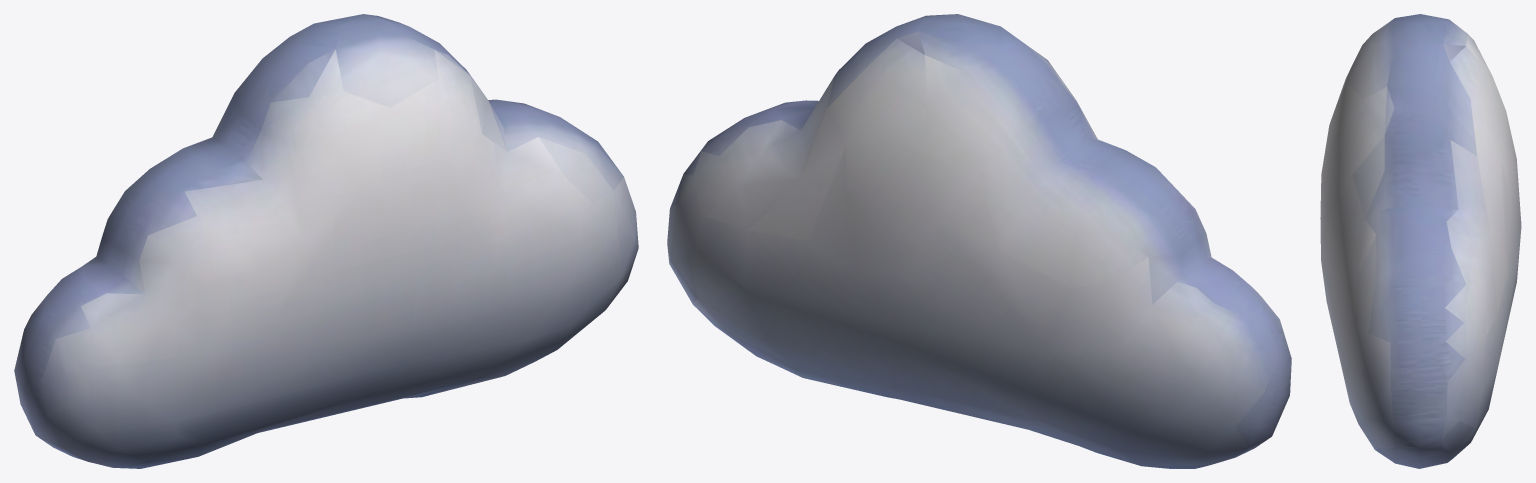
File: nuage.glb
3 renders of one model, left to right at view 1: azimuth 30°, elevation 25°; view 2: azimuth 150°, elevation 25°; view 3: azimuth 270°, elevation 25°, orthographic. The views are drawn at different scales.
Visible parts, largest first — view 1: LOD0; view 2: LOD0; view 3: LOD0.
Boxes of the visible parts, left/top/right/bottom form: LOD0: left=14, top=14, right=638, bottom=468; LOD0: left=667, top=14, right=1291, bottom=468; LOD0: left=1320, top=14, right=1521, bottom=468.
Size of what is drawn, in the model's own units: 1.13 by 0.6913 by 0.342.
Materials: 1 (1 with a texture image).
